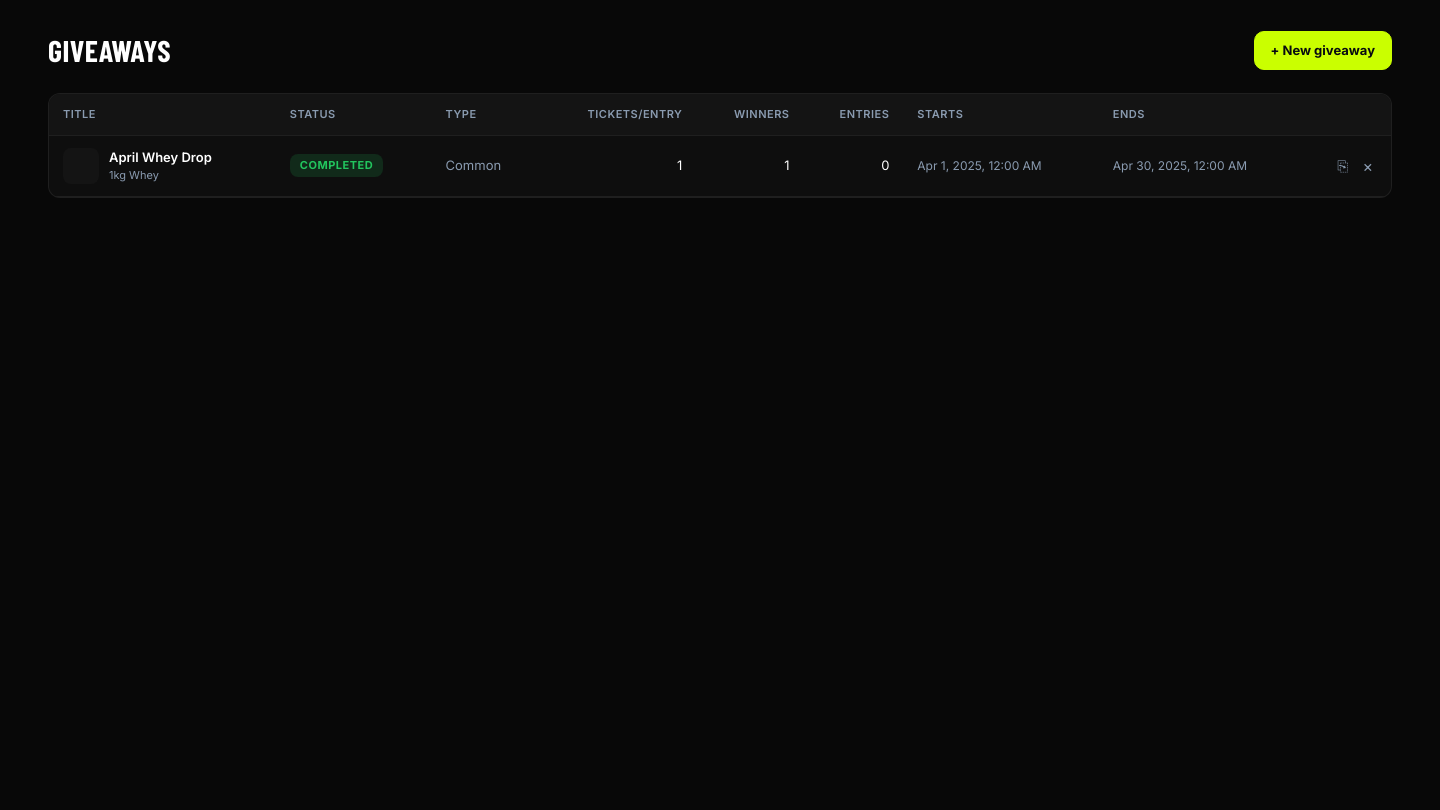
Test: GiveawaysPage › completed giveaway loads winners list when opened
Click the text "April Whey Drop".
click(160, 157)  # box x1=109 y1=148 x2=212 y2=167
(page scrolled)
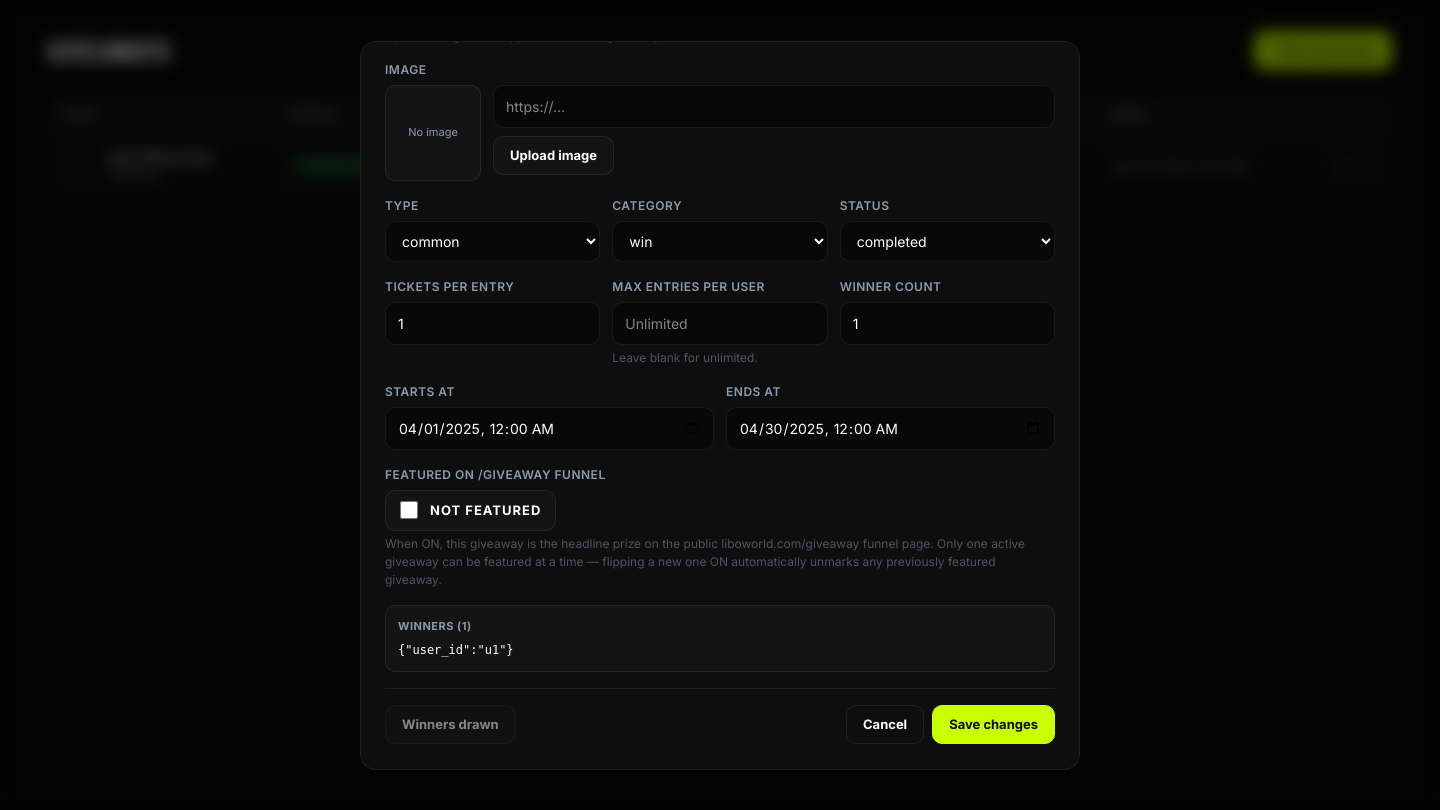
Result: the text "Winners (1)" is shown at x1=398 y1=619 x2=472 y2=633
